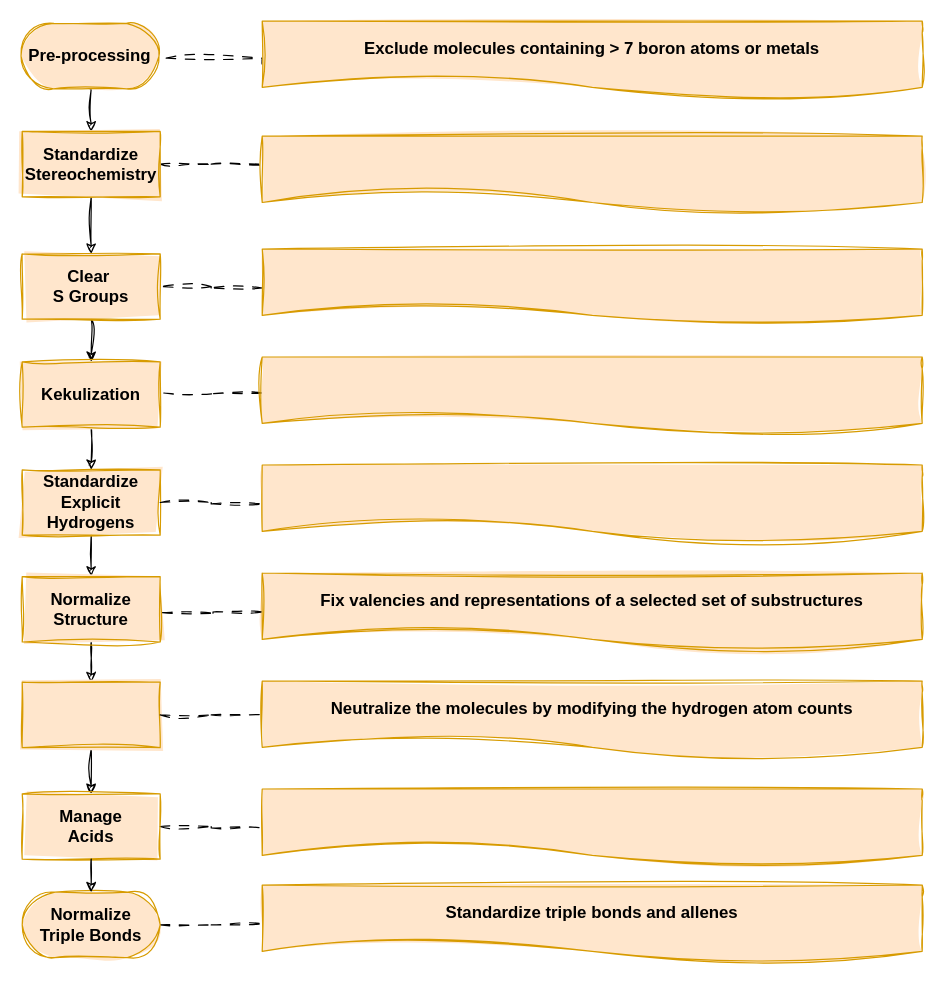
Some shapes in this 943 by 984 pixel diagram are drawn without their labels. The box of each missing label's shape, as (x1, y1, x2, y2) in pixels:
Generate a Kekulé representation of the structure: (261, 356, 922, 435)
Modify wiggly bonds on sp3 carbons or in structures with cis/trans bonds: (261, 135, 922, 214)
Neutralize Structure: (21, 681, 160, 748)
Normalize the representation of tartarates and tartaric acids: (261, 788, 922, 867)
Remove explicit hydrogen atoms except those with pre-defined set of properties: (261, 464, 922, 543)
Remove S group data from the molfiles: (261, 248, 922, 327)
